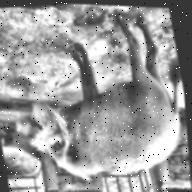boar: (0, 7, 191, 192)
